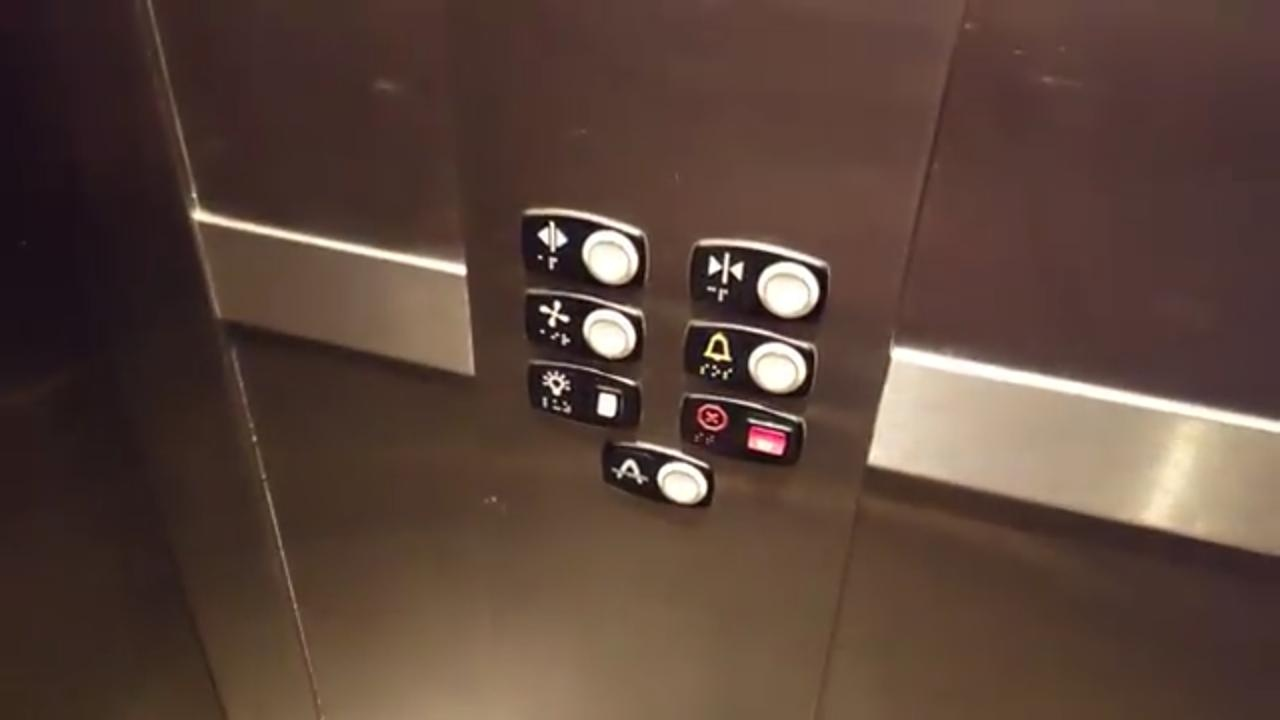alarm: (677, 318, 822, 404)
close: (684, 236, 833, 324)
fan: (519, 286, 650, 365)
light: (522, 358, 645, 433)
open: (518, 206, 652, 294)
stop: (673, 391, 810, 468)
unknown: (597, 434, 717, 513)
